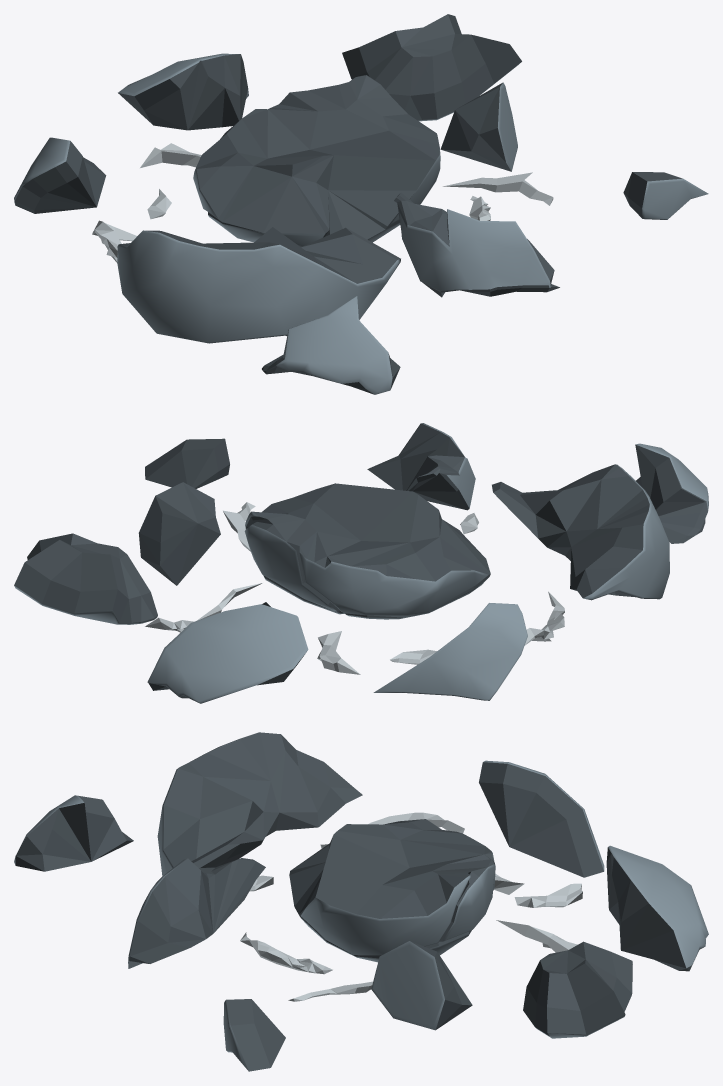
File: PT_Ore_Rock_01_split.glb
3 renders of one model, top to bottom at view 1: azimuth 30°, elevation 25°; view 2: azimuth 150°, elevation 25°; view 3: azimuth 270°, elevation 25°, orthographic. The views are drawn at different scales.
Parts seen in each view (by area): view 1: PT_Ore_Rock_01_split_LOD0; view 2: PT_Ore_Rock_01_split_LOD0; view 3: PT_Ore_Rock_01_split_LOD0.
Part boxes in pixels (x1,y1,x2,y2): PT_Ore_Rock_01_split_LOD0: [14, 14, 708, 394]; PT_Ore_Rock_01_split_LOD0: [14, 423, 708, 703]; PT_Ore_Rock_01_split_LOD0: [14, 732, 708, 1071].
Size of what is drawn, in the model's own units: 1.54 by 0.2816 by 1.73.
1 material, 1 textured.
